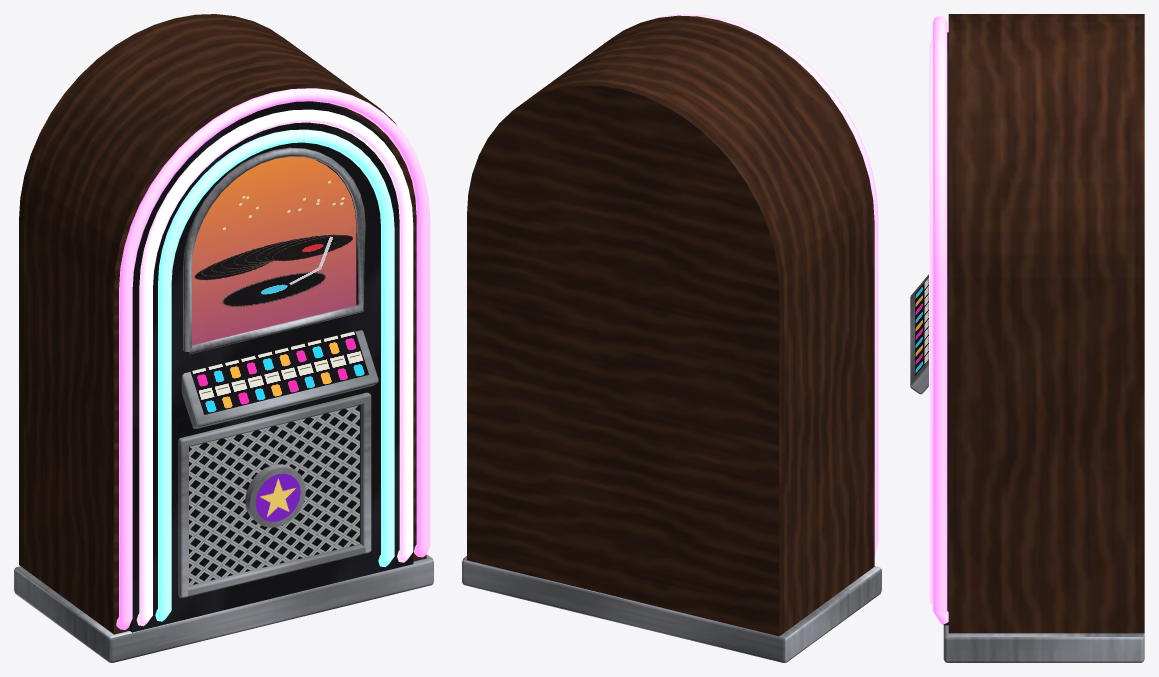
The model's file is prop_jukebox.glb.
The picture shows the model from 3 angles, left to right: view 1: azimuth 30°, elevation 25°; view 2: azimuth 150°, elevation 25°; view 3: azimuth 270°, elevation 25°; orthographic projection. The views are drawn at different scales.
Parts seen in each view (by area): view 1: prop; view 2: prop; view 3: prop.
Boxes of the visible parts, <box> form: prop: <box>14,14,433,662</box>; prop: <box>462,14,881,662</box>; prop: <box>910,14,1144,662</box>.
Size of what is drawn, in the model's own units: 0.75 by 1.18 by 0.4547.
10 materials, 7 textured.
